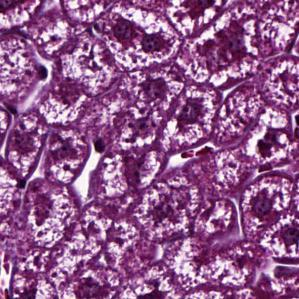inflammation: (189, 11, 264, 86), (102, 6, 177, 69)
